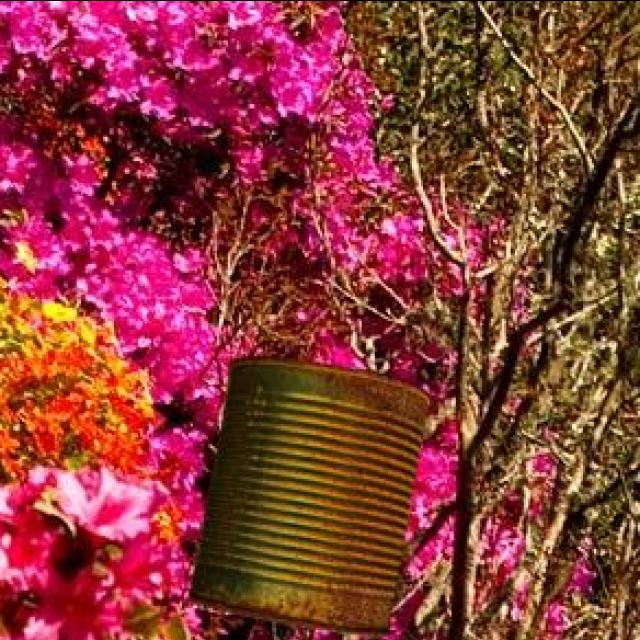logam: (192, 352, 433, 632)
